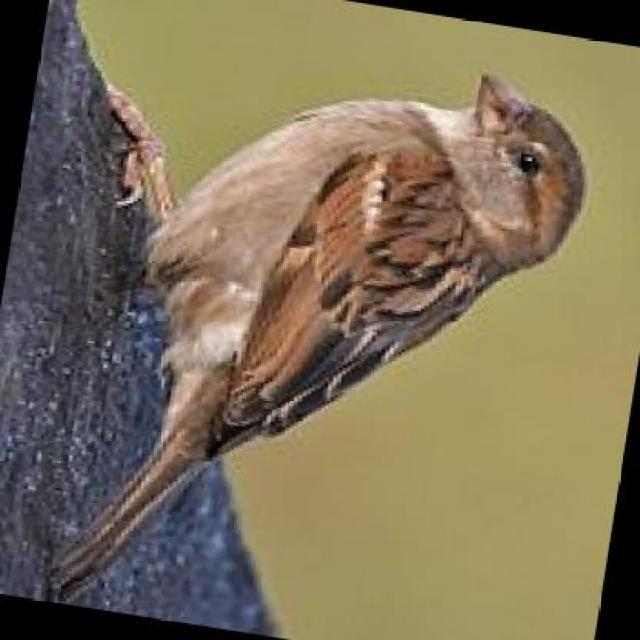Bird: (79, 70, 610, 577)
